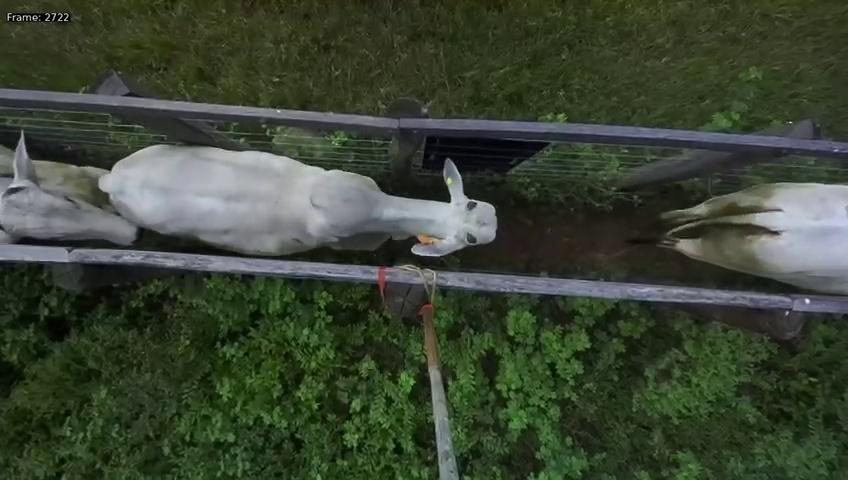cattle: (94, 129, 501, 260)
